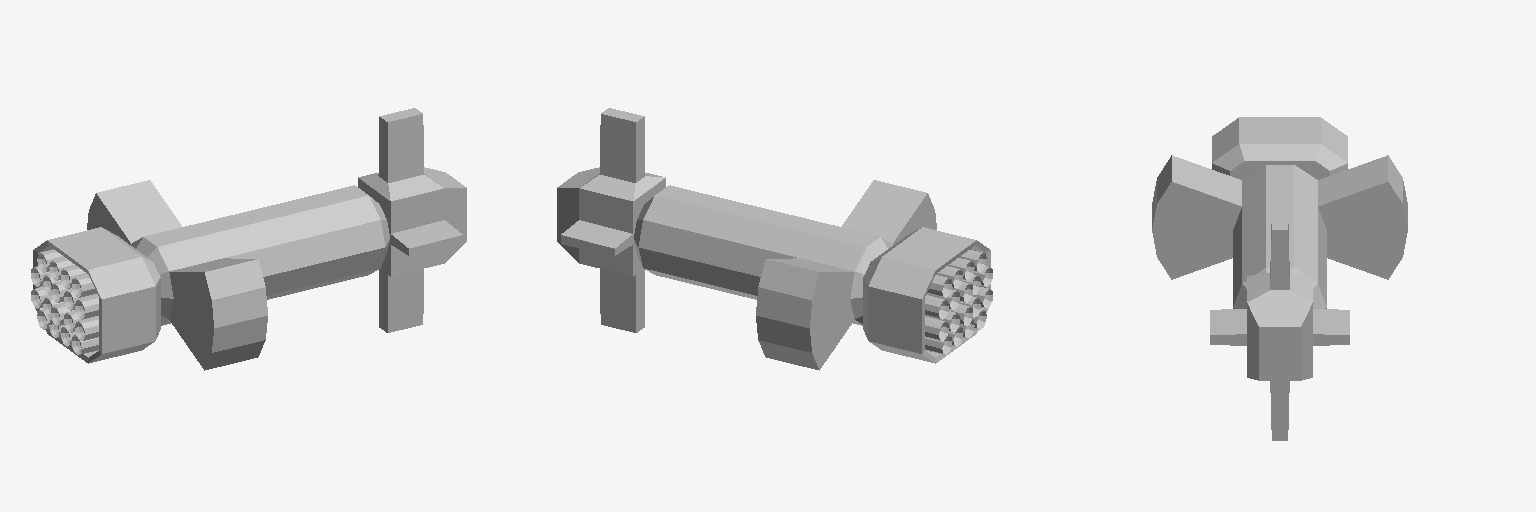
Rendered from starmaster.obj.
3 views of the same model, side by side, from view 1: azimuth 30°, elevation 25°; view 2: azimuth 150°, elevation 25°; view 3: azimuth 270°, elevation 25° (orthographic).
Parts seen in each view (by area): view 1: main_Cube; view 2: main_Cube; view 3: main_Cube.
Boxes of the visible parts, box(x1,y1,x2,y2) form: main_Cube: box(31, 108, 466, 370); main_Cube: box(557, 108, 992, 370); main_Cube: box(1152, 117, 1407, 440).
Bounding box in the file's own units: 4.86 × 2.44 × 2.68.